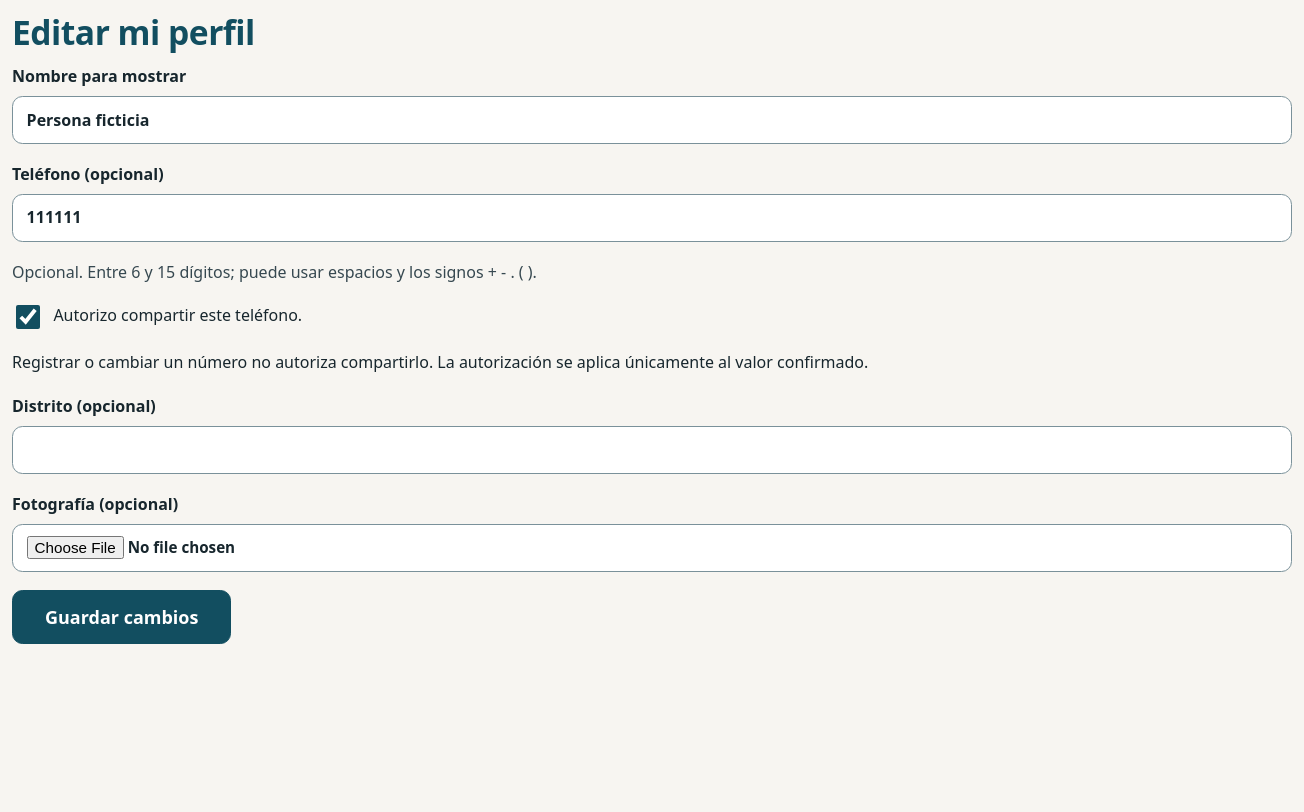
Test: CA-PER-10 el distrito es texto libre de hasta 100 caracteres: se envía tal cual, sin lista cerrada
Later steps or results of the test are not shown.
Type "Huamanga" into the field labelled "Distrito (opcional)". click: coordinates (652, 450)
box: [12,426,1292,474]
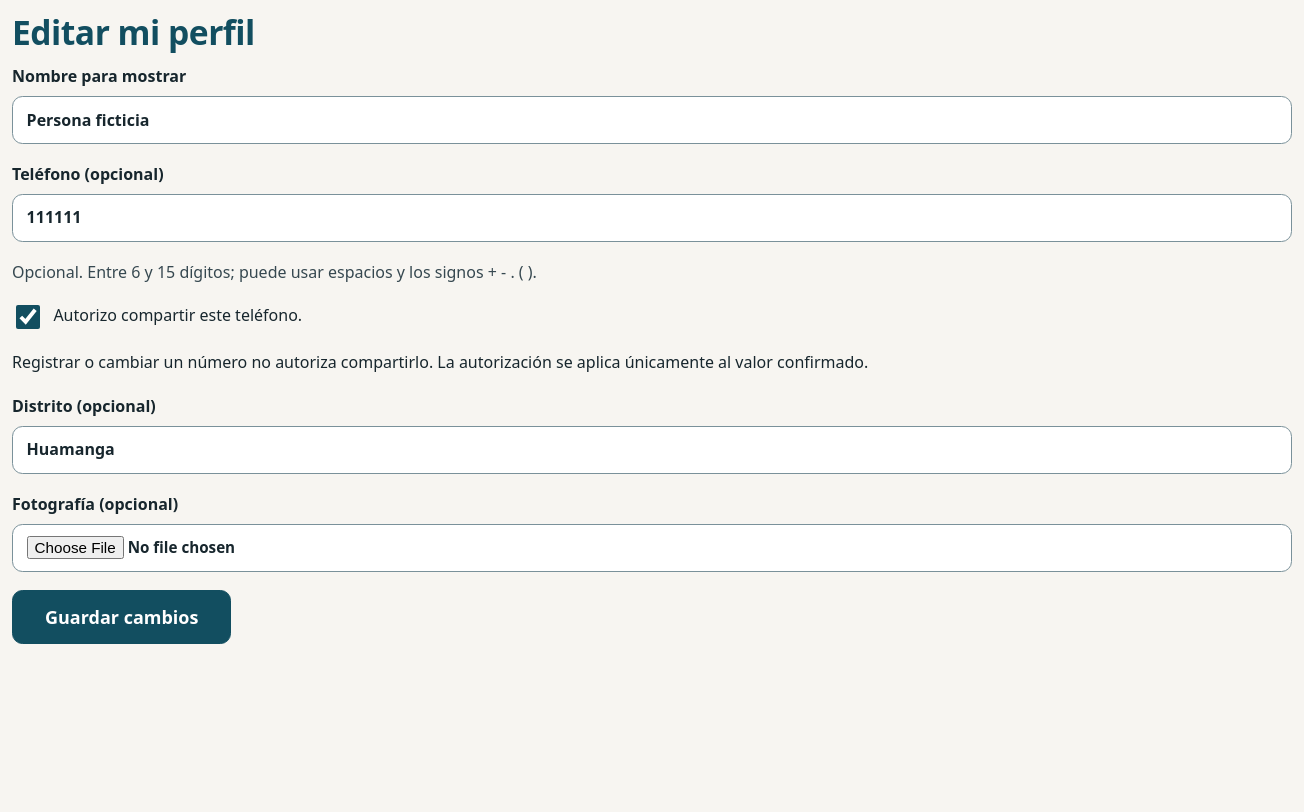
Click the button "Guardar cambios". click: coordinates (122, 617)
box: [12,590,231,644]
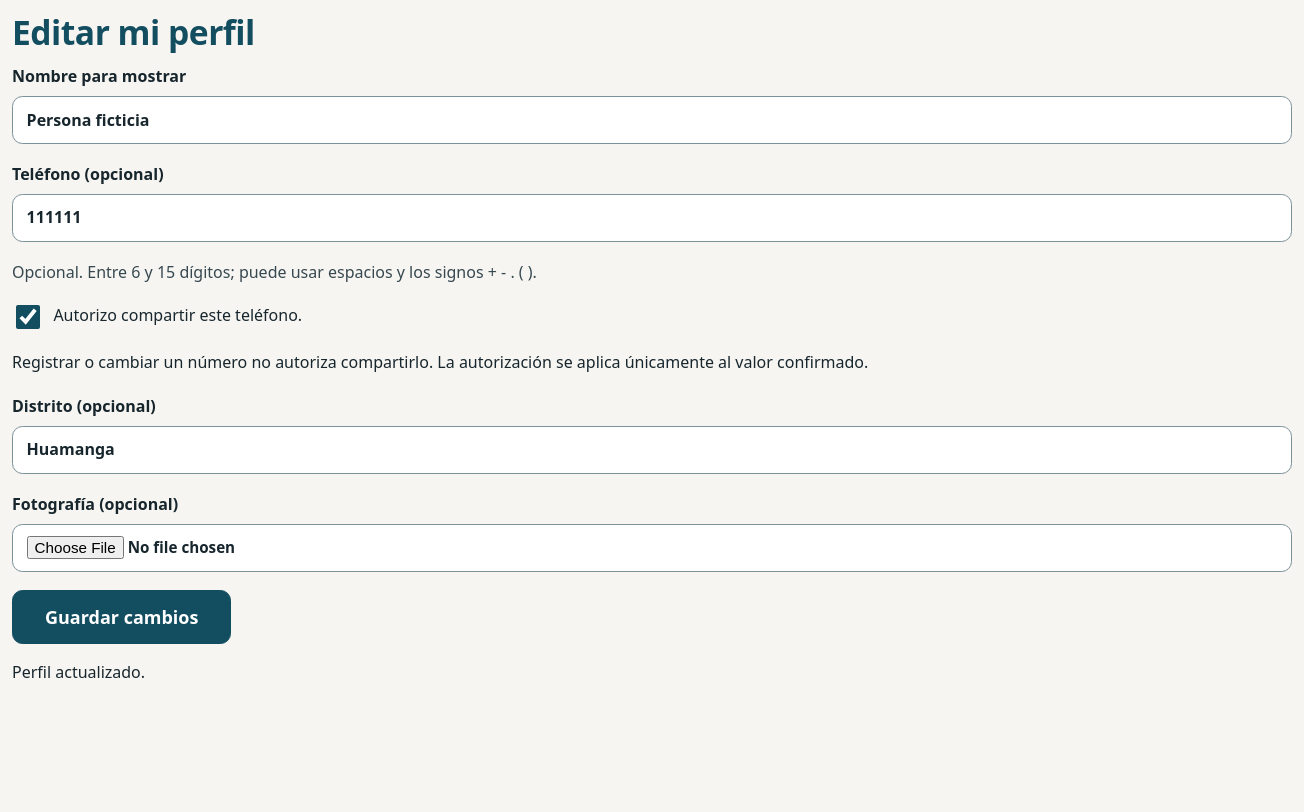
Check: the text "Perfil actualizado." is shown, box [12,661,145,683]
